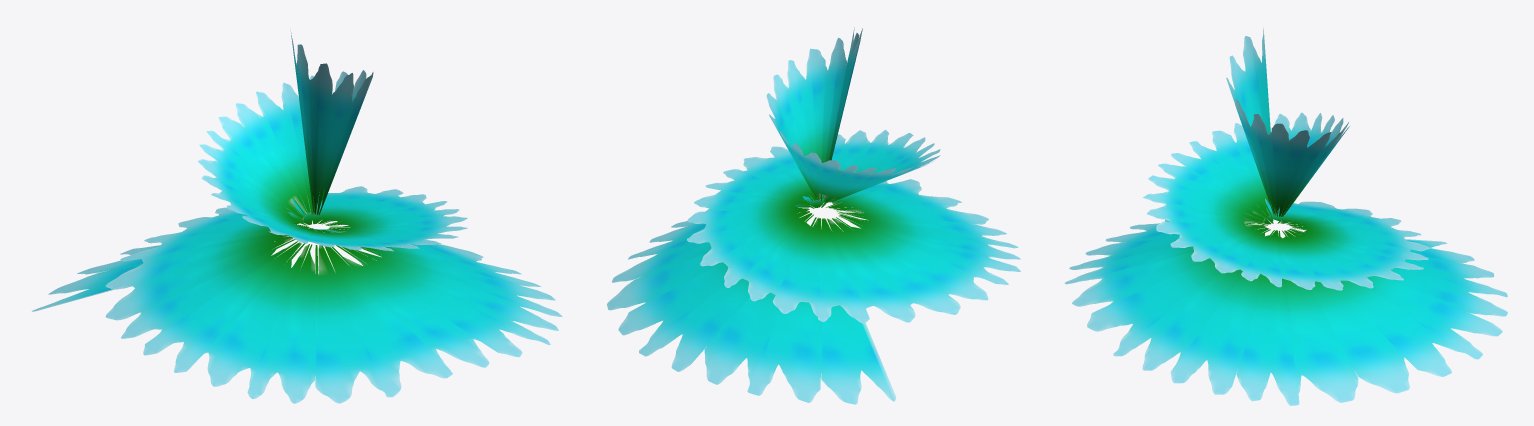
Rendered from CoralWorm_LightBlue.FBX.
3 renders of one model, left to right at view 1: azimuth 30°, elevation 25°; view 2: azimuth 150°, elevation 25°; view 3: azimuth 270°, elevation 25°, orthographic. The views are drawn at different scales.
Parts seen in each view (by area): view 1: CoralWorm_LightBlue; view 2: CoralWorm_LightBlue; view 3: CoralWorm_LightBlue.
Boxes of the visible parts, bbox=[...] form: CoralWorm_LightBlue: bbox=[32, 28, 562, 403]; CoralWorm_LightBlue: bbox=[607, 27, 1020, 404]; CoralWorm_LightBlue: bbox=[1064, 28, 1507, 405].
Bounding box in the file's own units: 41.2 × 32.02 × 45.24.
